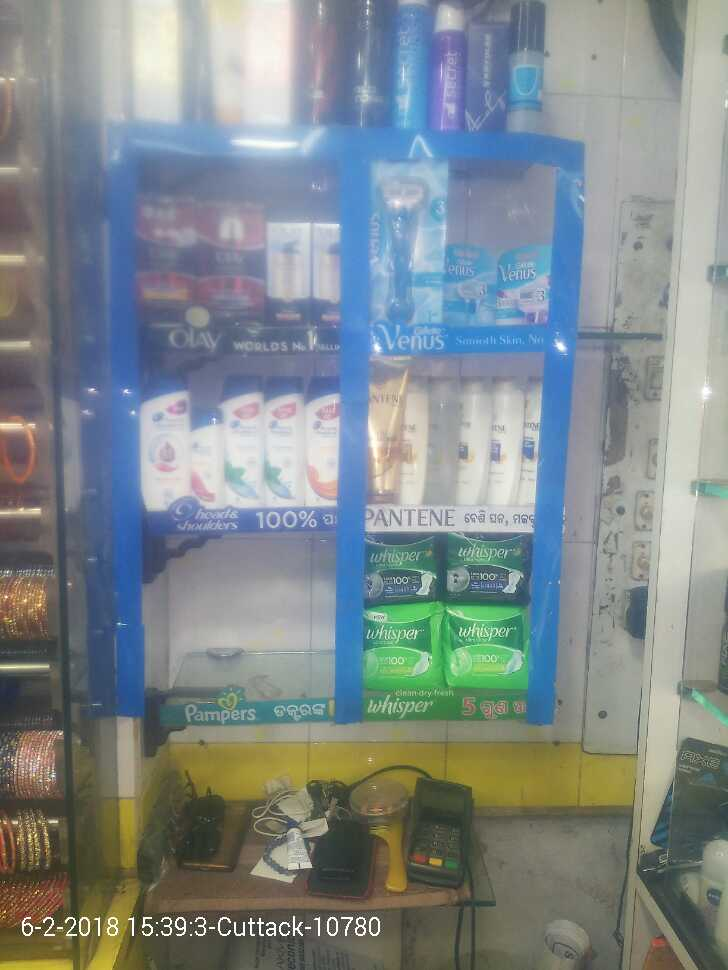venus: (380, 170, 434, 322), (494, 245, 554, 324), (444, 248, 494, 324)
